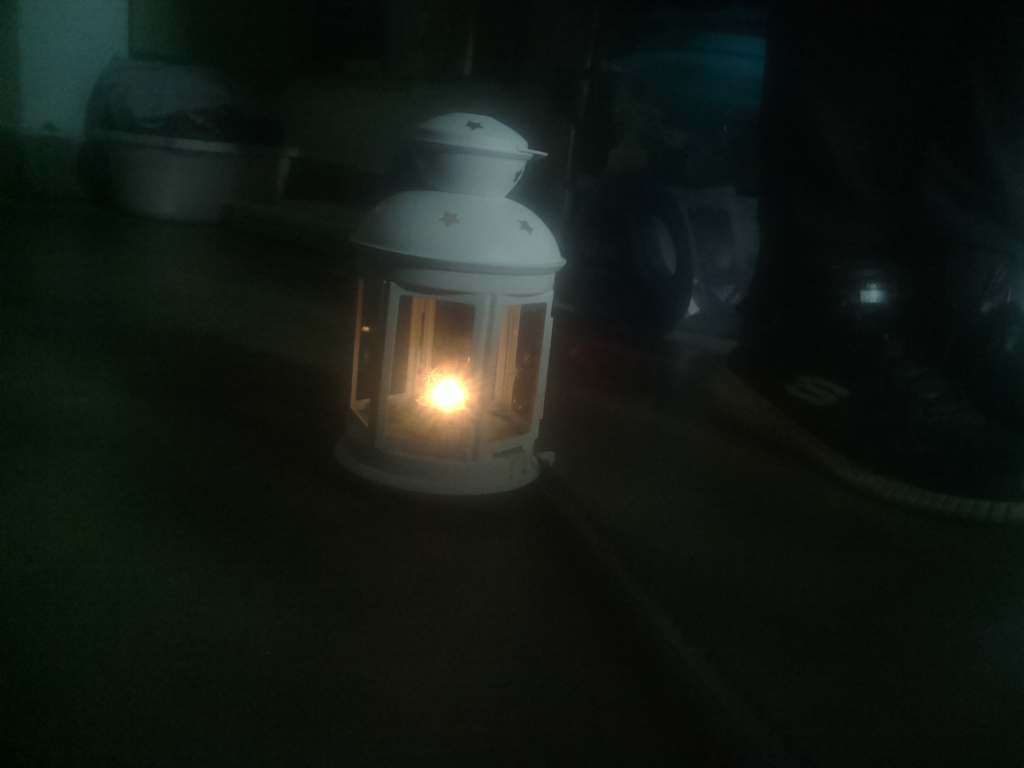fire: (397, 355, 501, 443)
